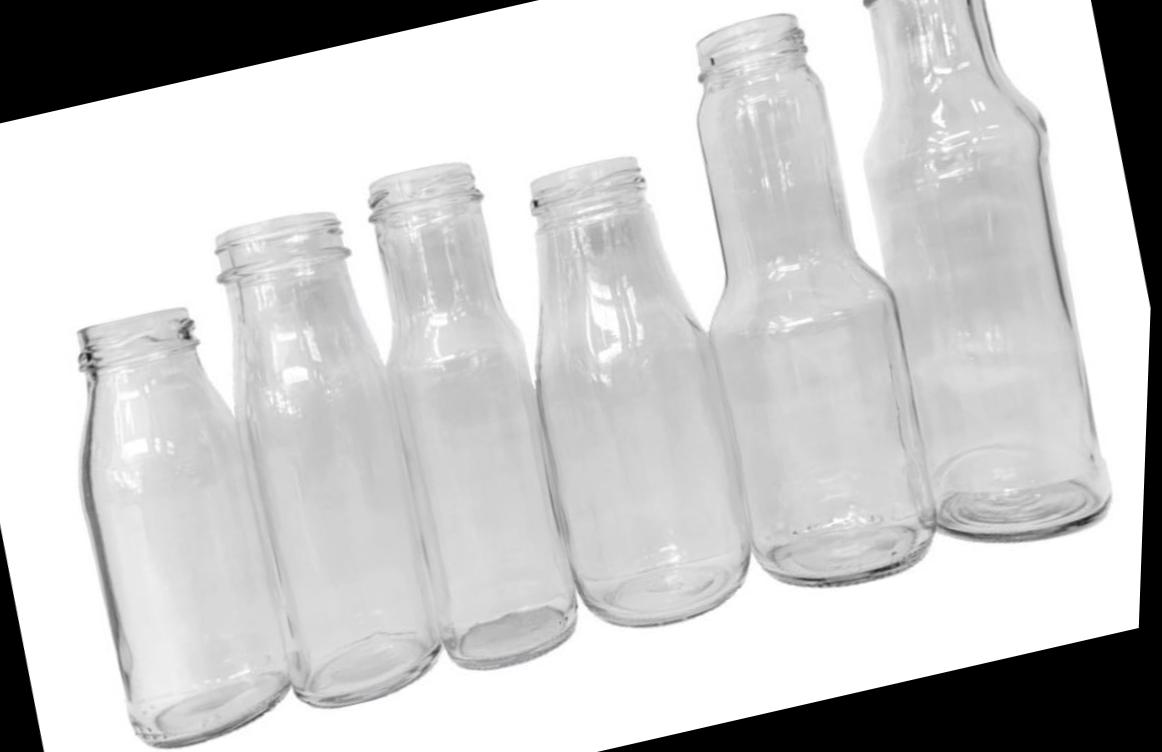glass: (630, 0, 972, 609), (801, 0, 1146, 567), (481, 142, 783, 642), (184, 196, 469, 716), (332, 153, 606, 681), (31, 291, 316, 752)
